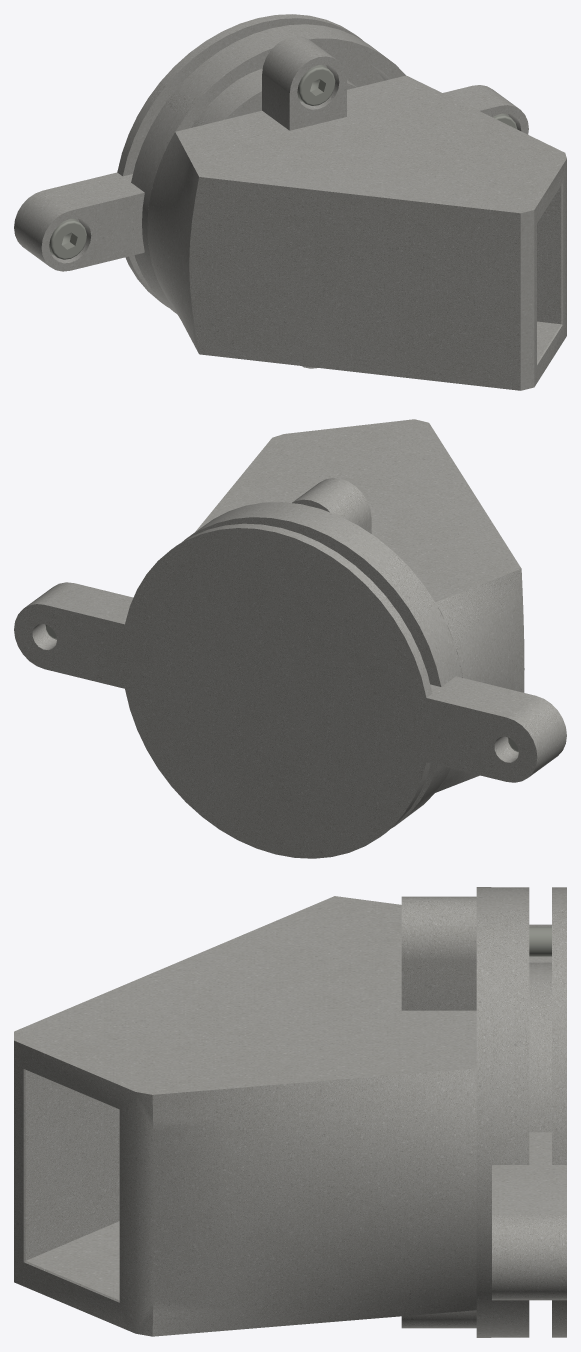
Rendered from sfp_mount_visual.glb.
The picture shows the model from 3 angles, top to bottom: view 1: azimuth 30°, elevation 25°; view 2: azimuth 150°, elevation 25°; view 3: azimuth 270°, elevation 25°; orthographic projection. The views are drawn at different scales.
Parts seen in each view (by area): view 1: PLUG FIXTURE BASE MOUNT.014; view 2: PLUG FIXTURE BASE MOUNT.014; view 3: PLUG FIXTURE BASE MOUNT.014.
Part boxes in pixels (box(x1,y1,x2,y2)): PLUG FIXTURE BASE MOUNT.014: box(14, 14, 566, 390); PLUG FIXTURE BASE MOUNT.014: box(14, 419, 566, 858); PLUG FIXTURE BASE MOUNT.014: box(14, 887, 566, 1337).
Size of the model in its own units: 0.051 by 0.0311 by 0.0368.
2 materials, 1 textured.
